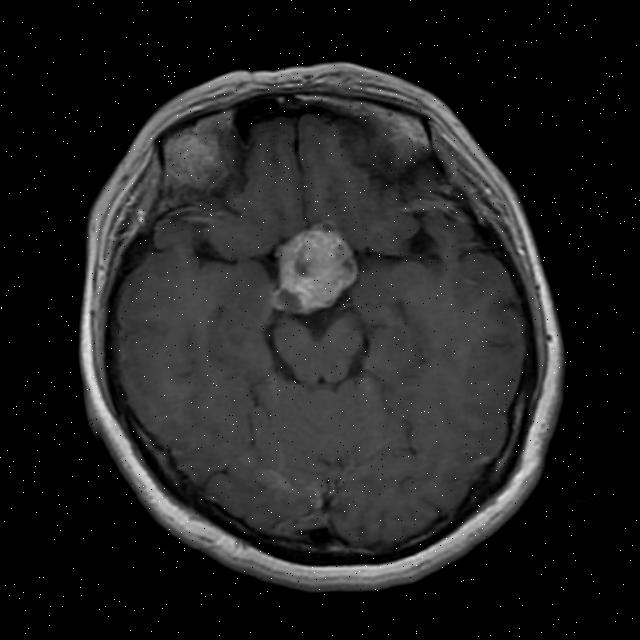Pituitary: (272, 219, 364, 319)
